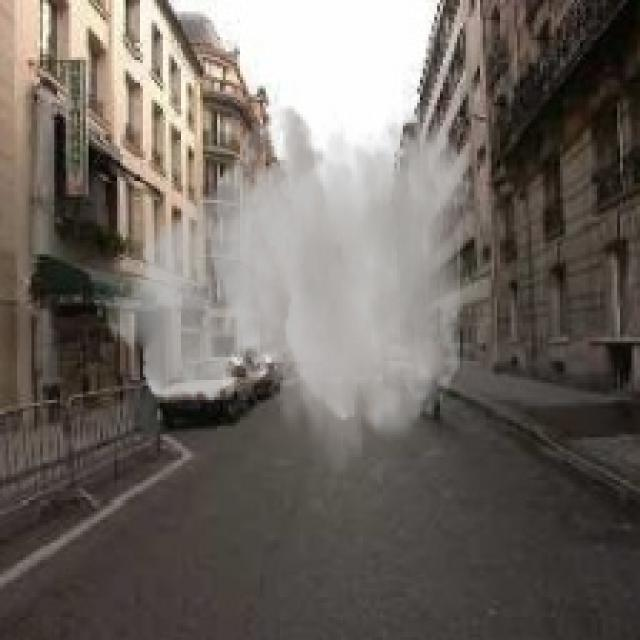smoke: (94, 103, 474, 483)
